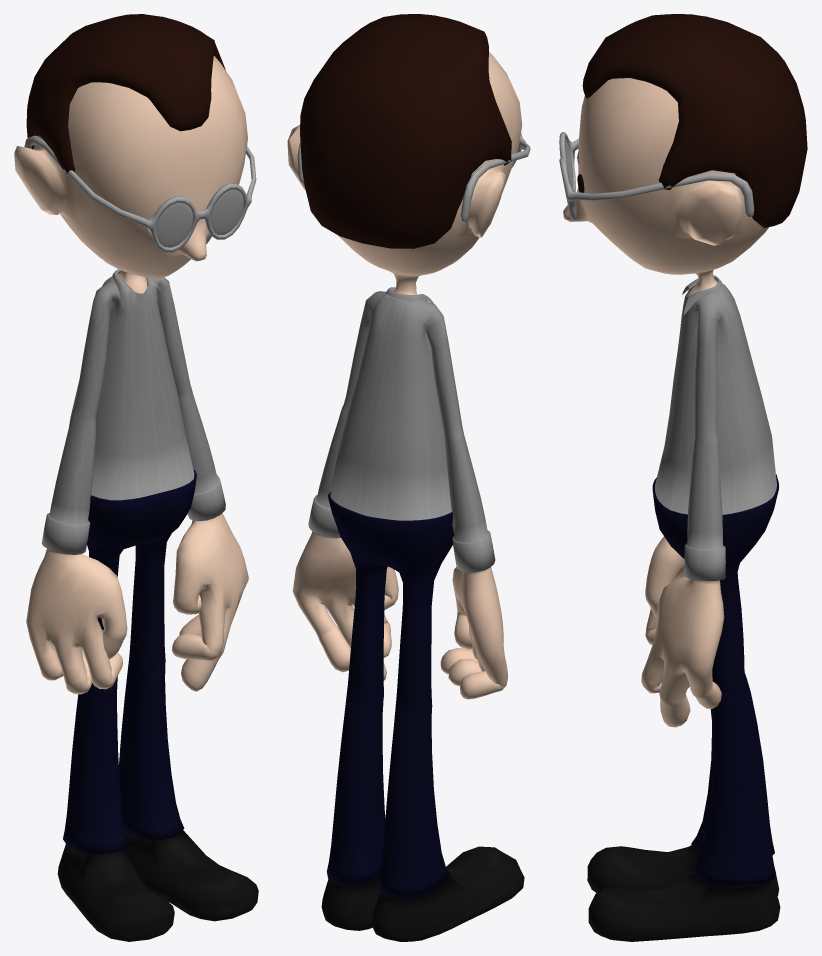
The model's file is Animation_Cartoon_Starter_000004.obj.
3 views of the same model, side by side, from view 1: azimuth 30°, elevation 25°; view 2: azimuth 150°, elevation 25°; view 3: azimuth 270°, elevation 25° (orthographic).
Visible parts, largest first — view 1: bm_09; view 2: bm_09; view 3: bm_09.
Part boxes in pixels (<box>): bm_09: <box>14,14,258,941</box>; bm_09: <box>287,14,530,941</box>; bm_09: <box>559,14,807,941</box>.
Size of the model in its own units: 0.3948 by 1.51 by 0.386.
Materials: 3 (1 with a texture image).
